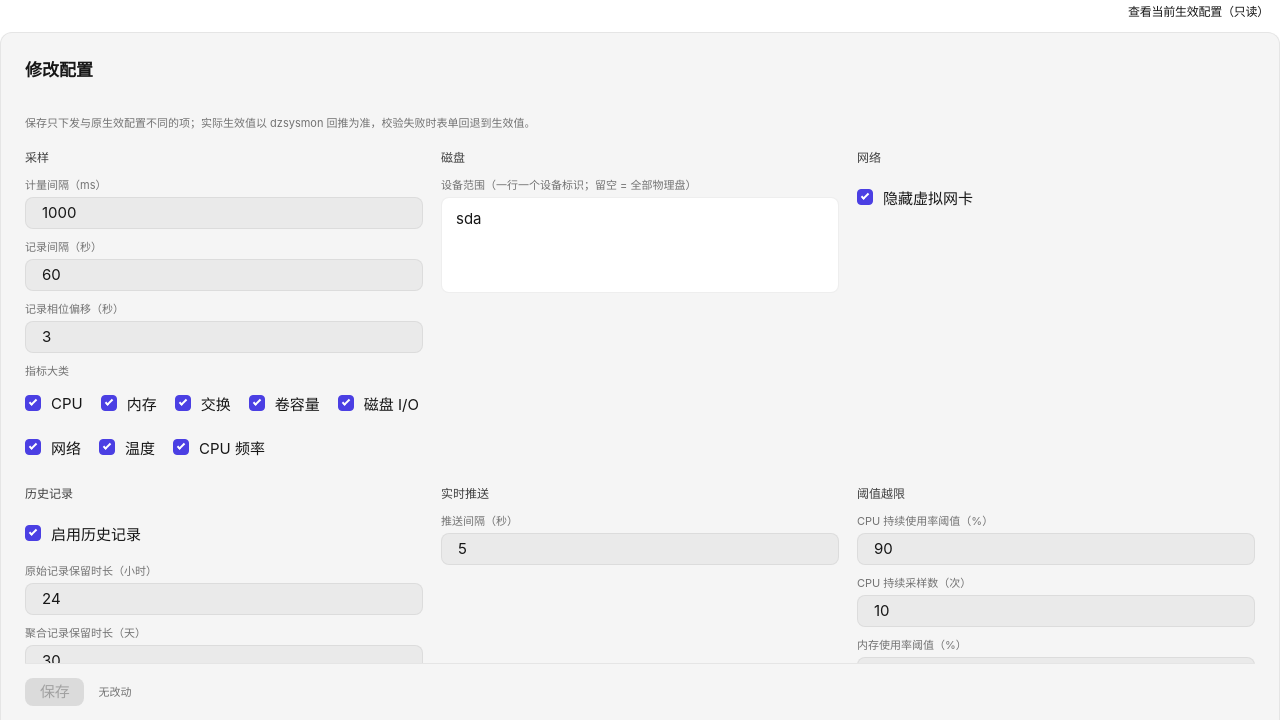
SysmonConfigTab 生效配置展示（#81） › 镜像到达：按六个段展示生效值（数值带单位、布尔语义化、数组逐条）
This screenshot has width=1280, height=720.
Click the button with test id "sysmon-config-summary-toggle": click(1198, 12) left=1117, top=0, right=1279, bottom=24
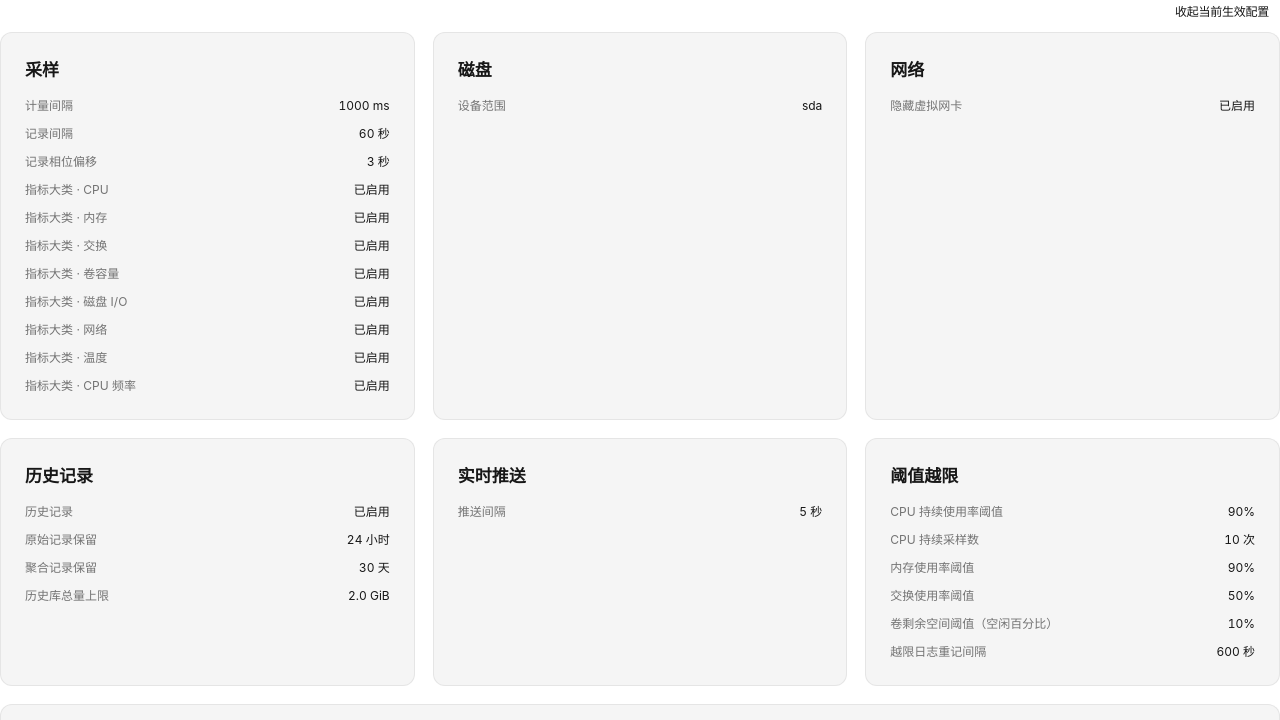
Check: the element with test id "sysmon-config-section-sampling" is shown, box left=0, top=32, right=415, bottom=420
Check: the text with test id "sysmon-config-value-realtime.push_interval_sec" reads "5 秒", box left=799, top=504, right=822, bottom=519
Check: the 2nd text "已启用" is shown, box left=354, top=181, right=390, bottom=199
